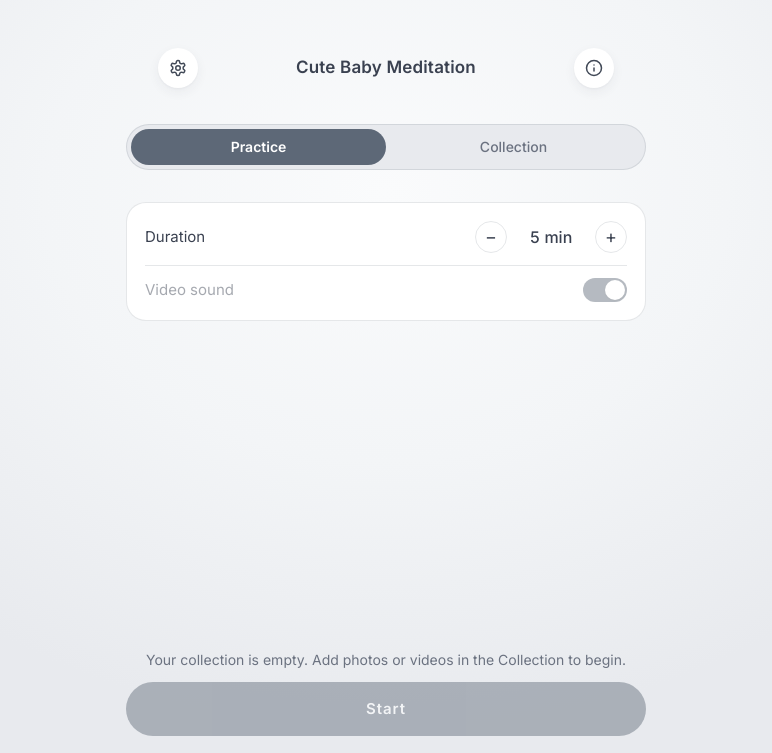
Test case: App › opens Settings from the gear and returns via back
Check: the element "Duration" is shown, box [145,221,627,253]
Click the button named "Settings" at (178, 68), box [158,48,198,88]
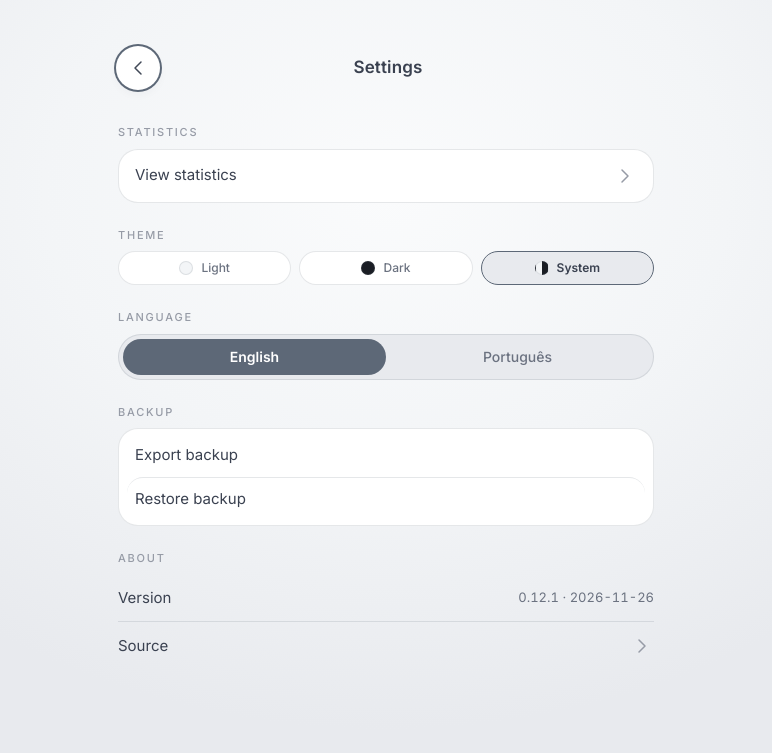
Check: the heading "Settings" is shown, box [353,55,423,81]
Check: the text "Duration" is gone
Click the button named "Back" at (138, 68), box [118,48,158,88]
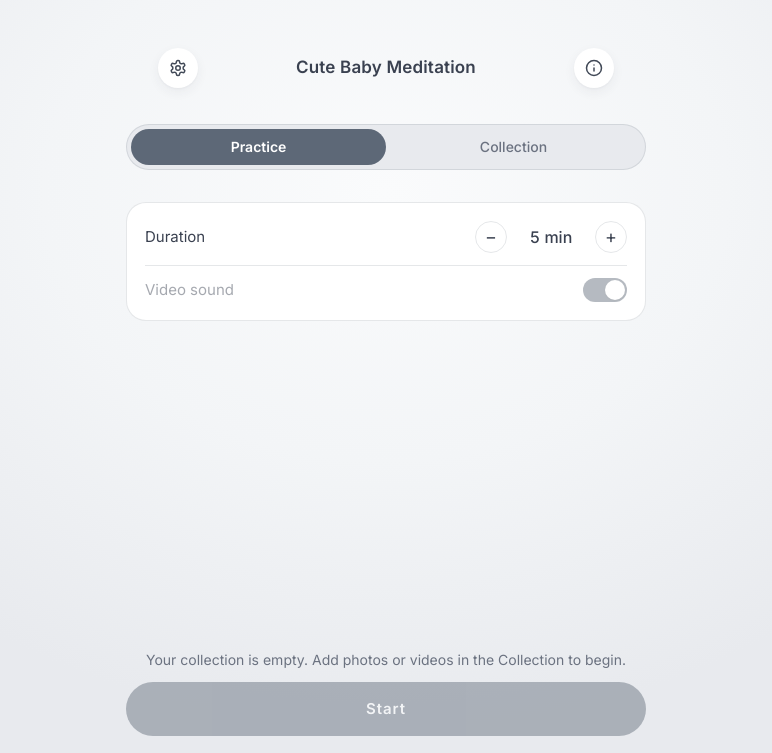
Check: the element "Duration" is shown, box [145,221,627,253]
